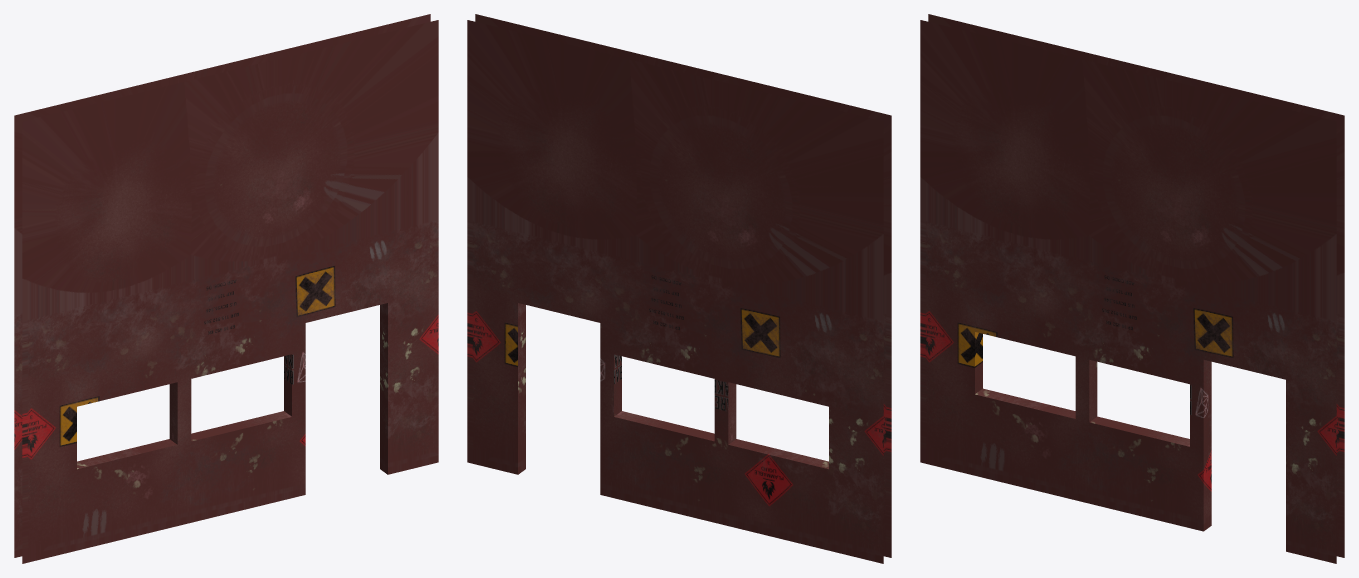
File: CS_wall_large_door_and_windows.FBX
The picture shows the model from 3 angles, left to right: view 1: azimuth 30°, elevation 25°; view 2: azimuth 150°, elevation 25°; view 3: azimuth 330°, elevation 25°; orthographic projection.
Parts seen in each view (by area): view 1: SM_wall_large_door_and_windows; view 2: SM_wall_large_door_and_windows; view 3: SM_wall_large_door_and_windows.
Boxes of the visible parts, x1,y1,x2,y2 form: SM_wall_large_door_and_windows: (14, 14, 438, 563); SM_wall_large_door_and_windows: (467, 14, 891, 563); SM_wall_large_door_and_windows: (920, 14, 1344, 563).
Bounding box in the file's own units: 600 × 20 × 610.
